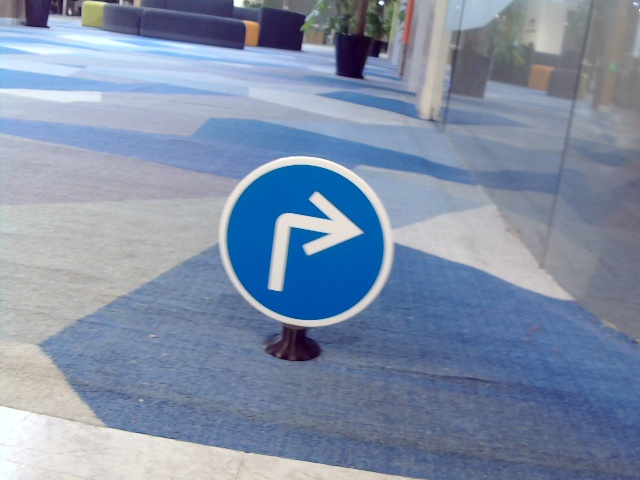turn_right: (262, 187, 362, 293)
